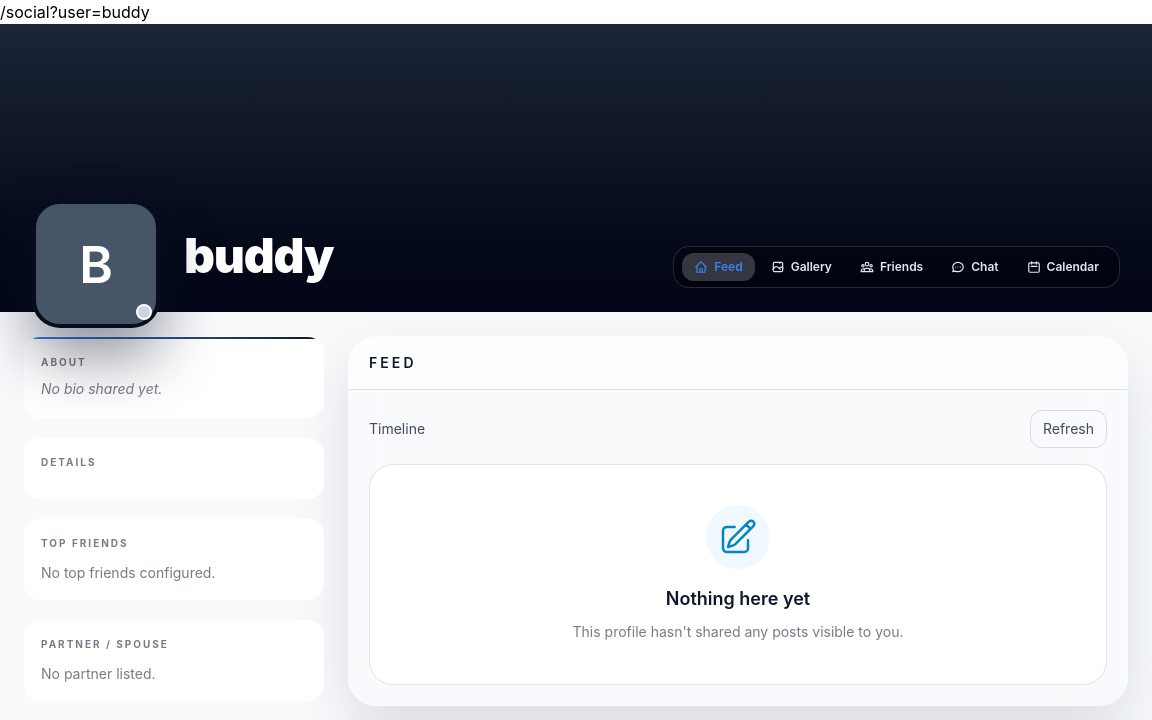
Scenario: Social page hero background rendering › loads profile chat thread/messages for guest viewers when read access allows guests
The width and height of the screenshot is (1152, 720).
Step 1. Click the button "Chat" → (975, 267), box top-left (939, 253), bottom-right (1010, 281)
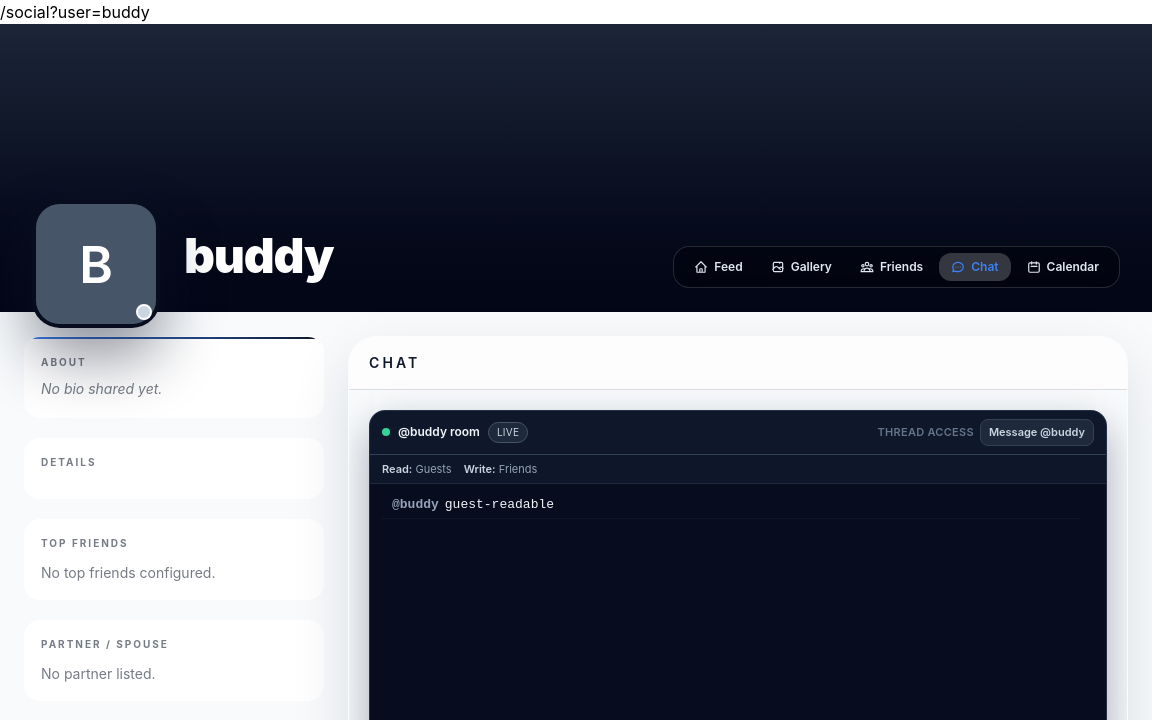
Now the text "guest-readable" is shown, box top-left (445, 497), bottom-right (554, 512)
Now the text "Thread Access" is shown, box top-left (878, 424), bottom-right (974, 440)
Now the text "@buddy room" is shown, box top-left (398, 423), bottom-right (480, 441)
